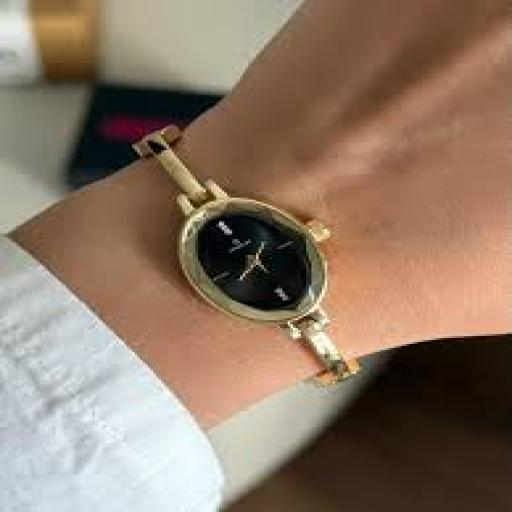KolSaati: (101, 101, 422, 409)
